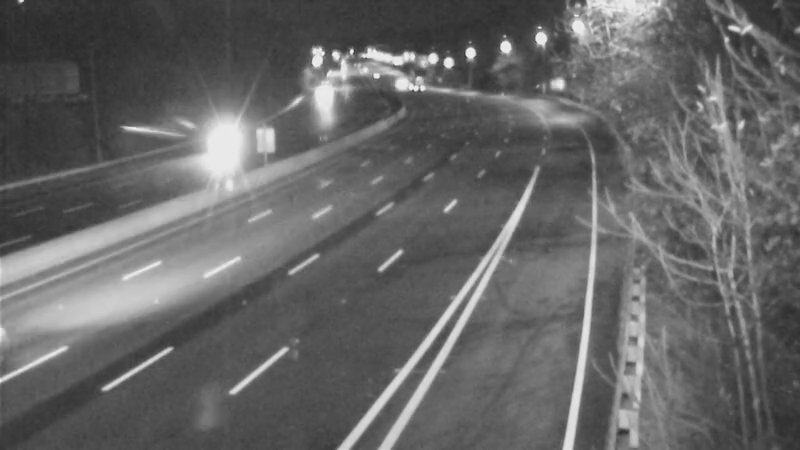vehicle: (377, 60, 427, 110), (392, 61, 442, 111), (208, 115, 258, 165), (301, 68, 351, 118)
